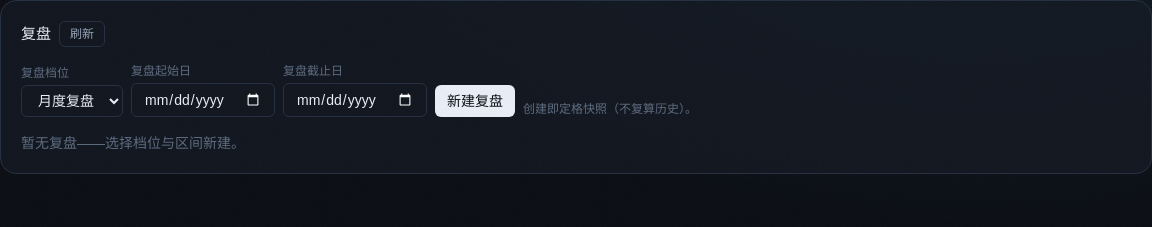
it: ReviewPanel 复盘列表与三档新建 › 起止缺失/区间倒置：行内拦截不发请求
This screenshot has width=1152, height=227.
Click the button "新建复盘". click: point(475, 101)
box: [435,85,515,117]
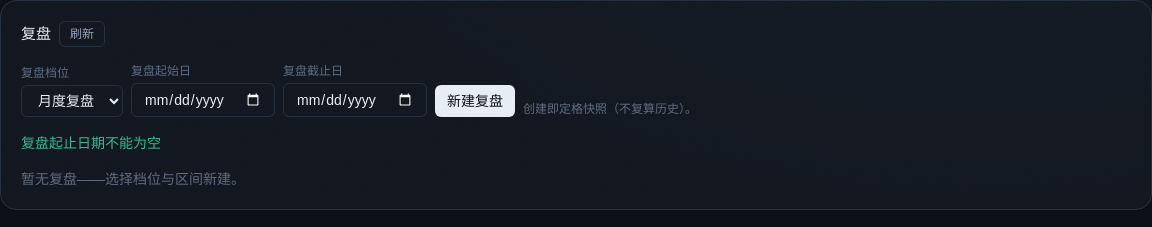
Expected: the text "复盘起止日期不能为空" is shown, [21,135,161,151]
Type "2026-09-30" into the date field labelled "复盘起始日". click: point(203, 100)
box: [131,83,275,117]
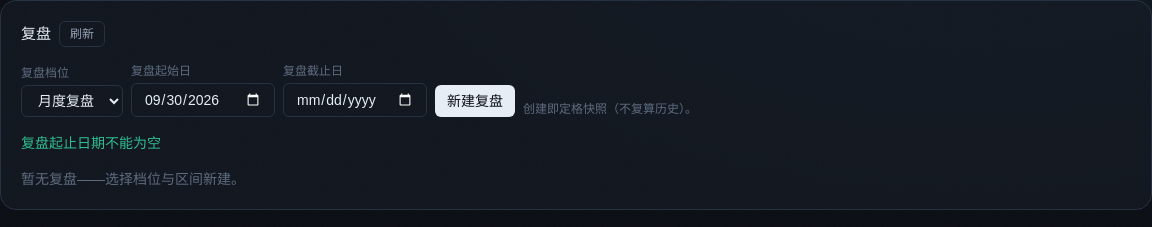
Type "2026-09-01" into the date field labelled "复盘截止日". click: point(355, 100)
box: [283,83,427,117]
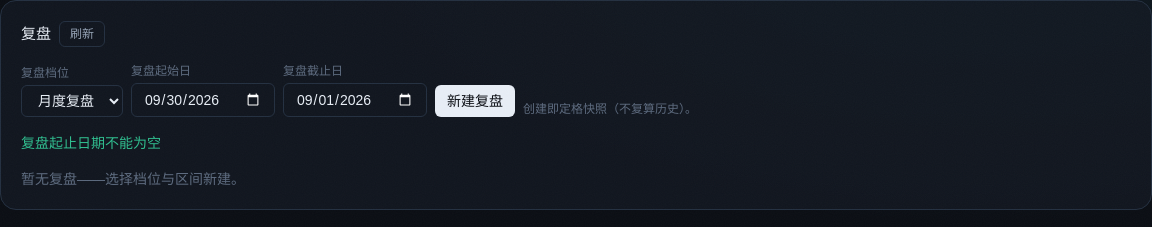
Click the button "新建复盘". click: point(475, 101)
box: [435,85,515,117]
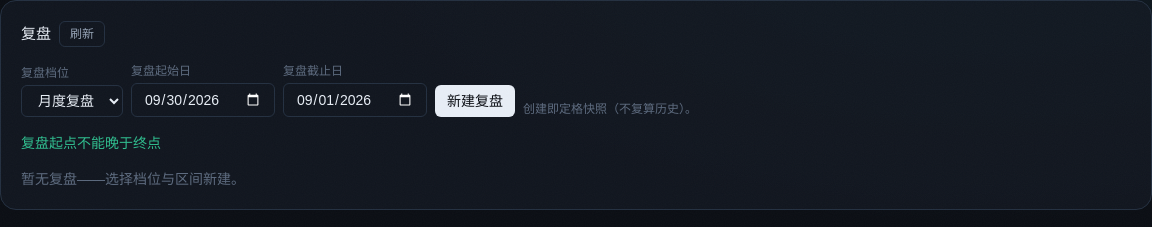
Expected: the text "复盘起点不能晚于终点" is shown, [21,135,161,151]
